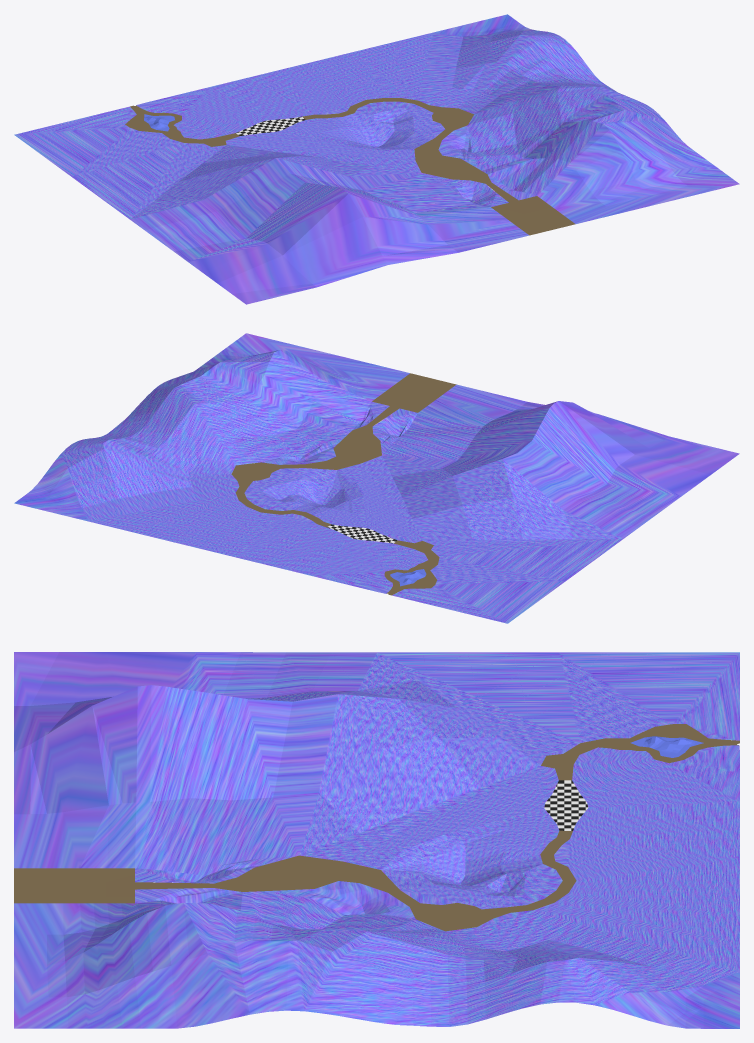
File: Level2GroundPlanes.fbx
3 renders of one model, top to bottom at view 1: azimuth 30°, elevation 25°; view 2: azimuth 150°, elevation 25°; view 3: azimuth 270°, elevation 25°, orthographic. The views are drawn at different scales.
Visible parts, largest first — view 1: Plane, Plane_004; view 2: Plane, Plane_004; view 3: Plane, Plane_004.
Part boxes in pixels (left/top/right/bottom): Plane: left=14, top=14, right=739, bottom=304; Plane_004: left=125, top=98, right=575, bottom=235; Plane: left=14, top=333, right=739, bottom=623; Plane_004: left=231, top=373, right=456, bottom=595; Plane: left=14, top=652, right=739, bottom=1028; Plane_004: left=14, top=724, right=739, bottom=931.
Size of the model in its own units: 81013 by 9677 by 66004.
4 materials, 1 textured.
